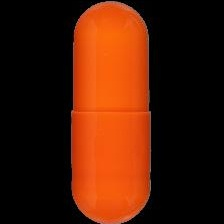57844-208: (0, 0, 224, 224)
